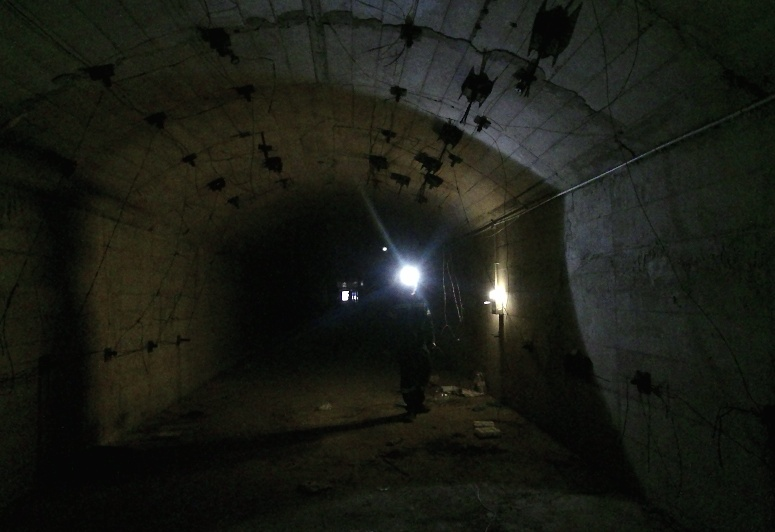person: (381, 274, 442, 423)
